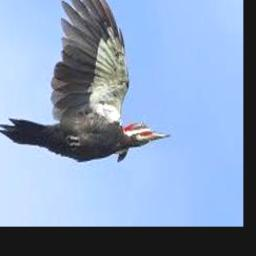Woodpecker: (0, 0, 172, 161)
